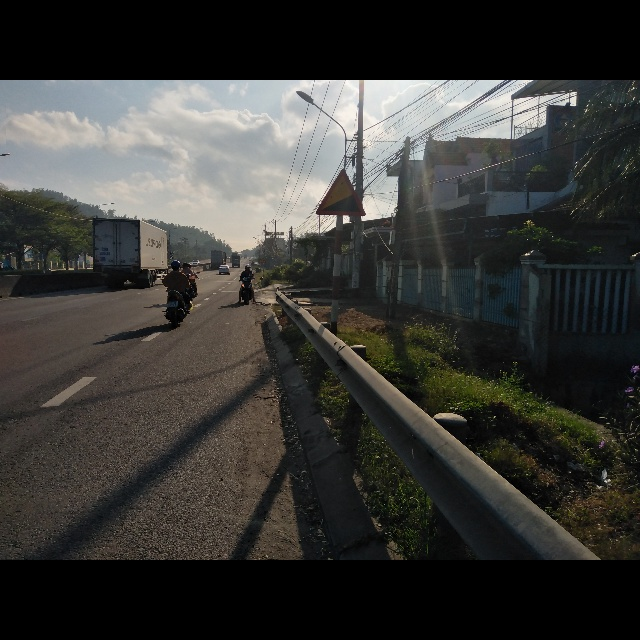Dốc lên nguy hiểm: (314, 167, 368, 217)
